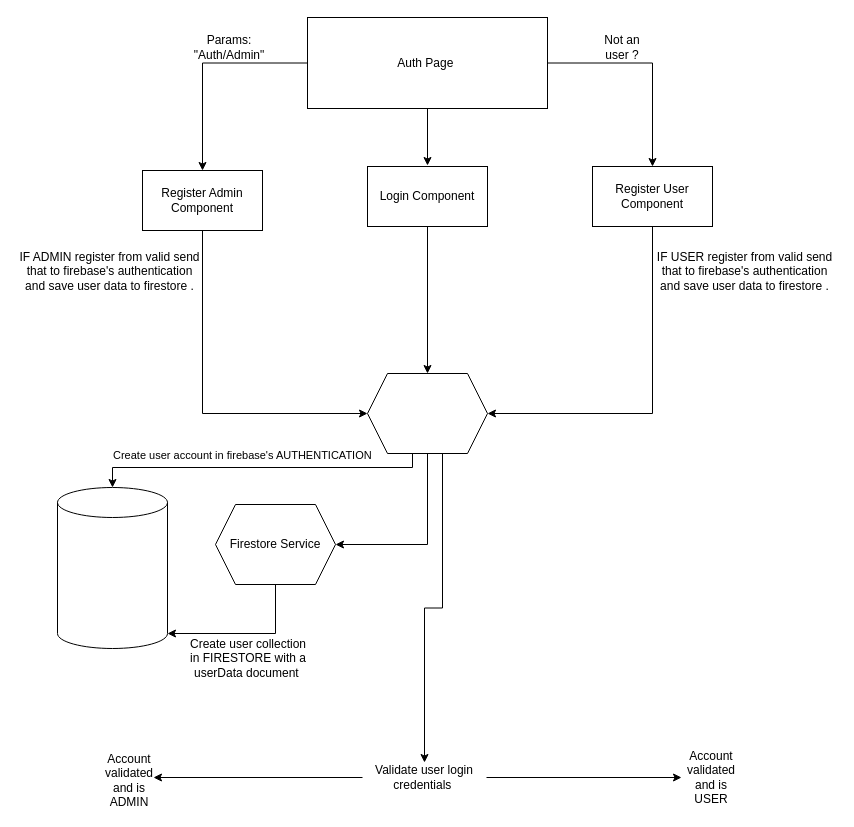
This 854x827 diagram has some shape labels left out. The shapes that lost their labels are listed below. From the top down, each one's centre as x and y in pixels, then its label:
(x=427, y=413): Authentication Service
(x=112, y=567): FIREBASE
